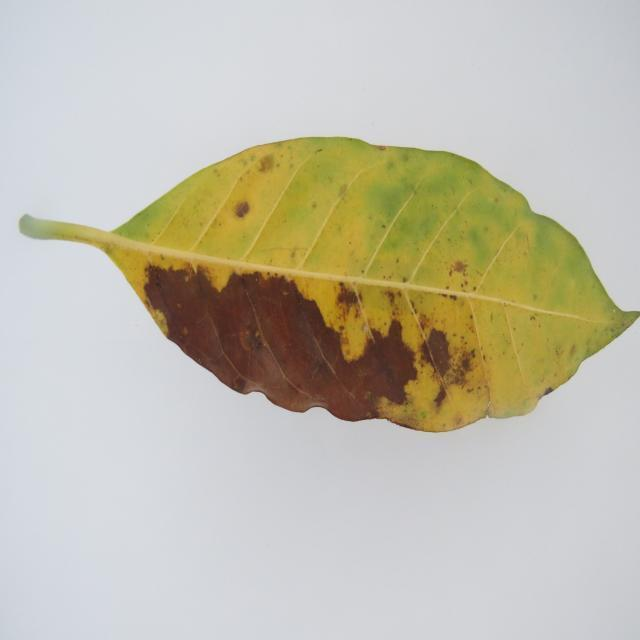DeficienciaNutricional-Potasio: (20, 138, 639, 432)
